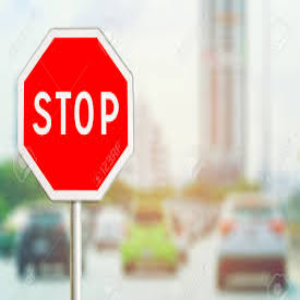STOP_SIGN: (17, 28, 133, 199)
